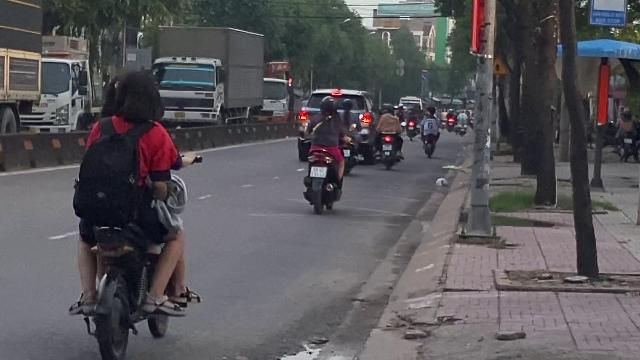licenseplate: (310, 166, 326, 178)
motorcyclist: (64, 67, 208, 359), (301, 95, 351, 215)
nohelmet: (114, 68, 164, 127), (318, 96, 338, 115)
